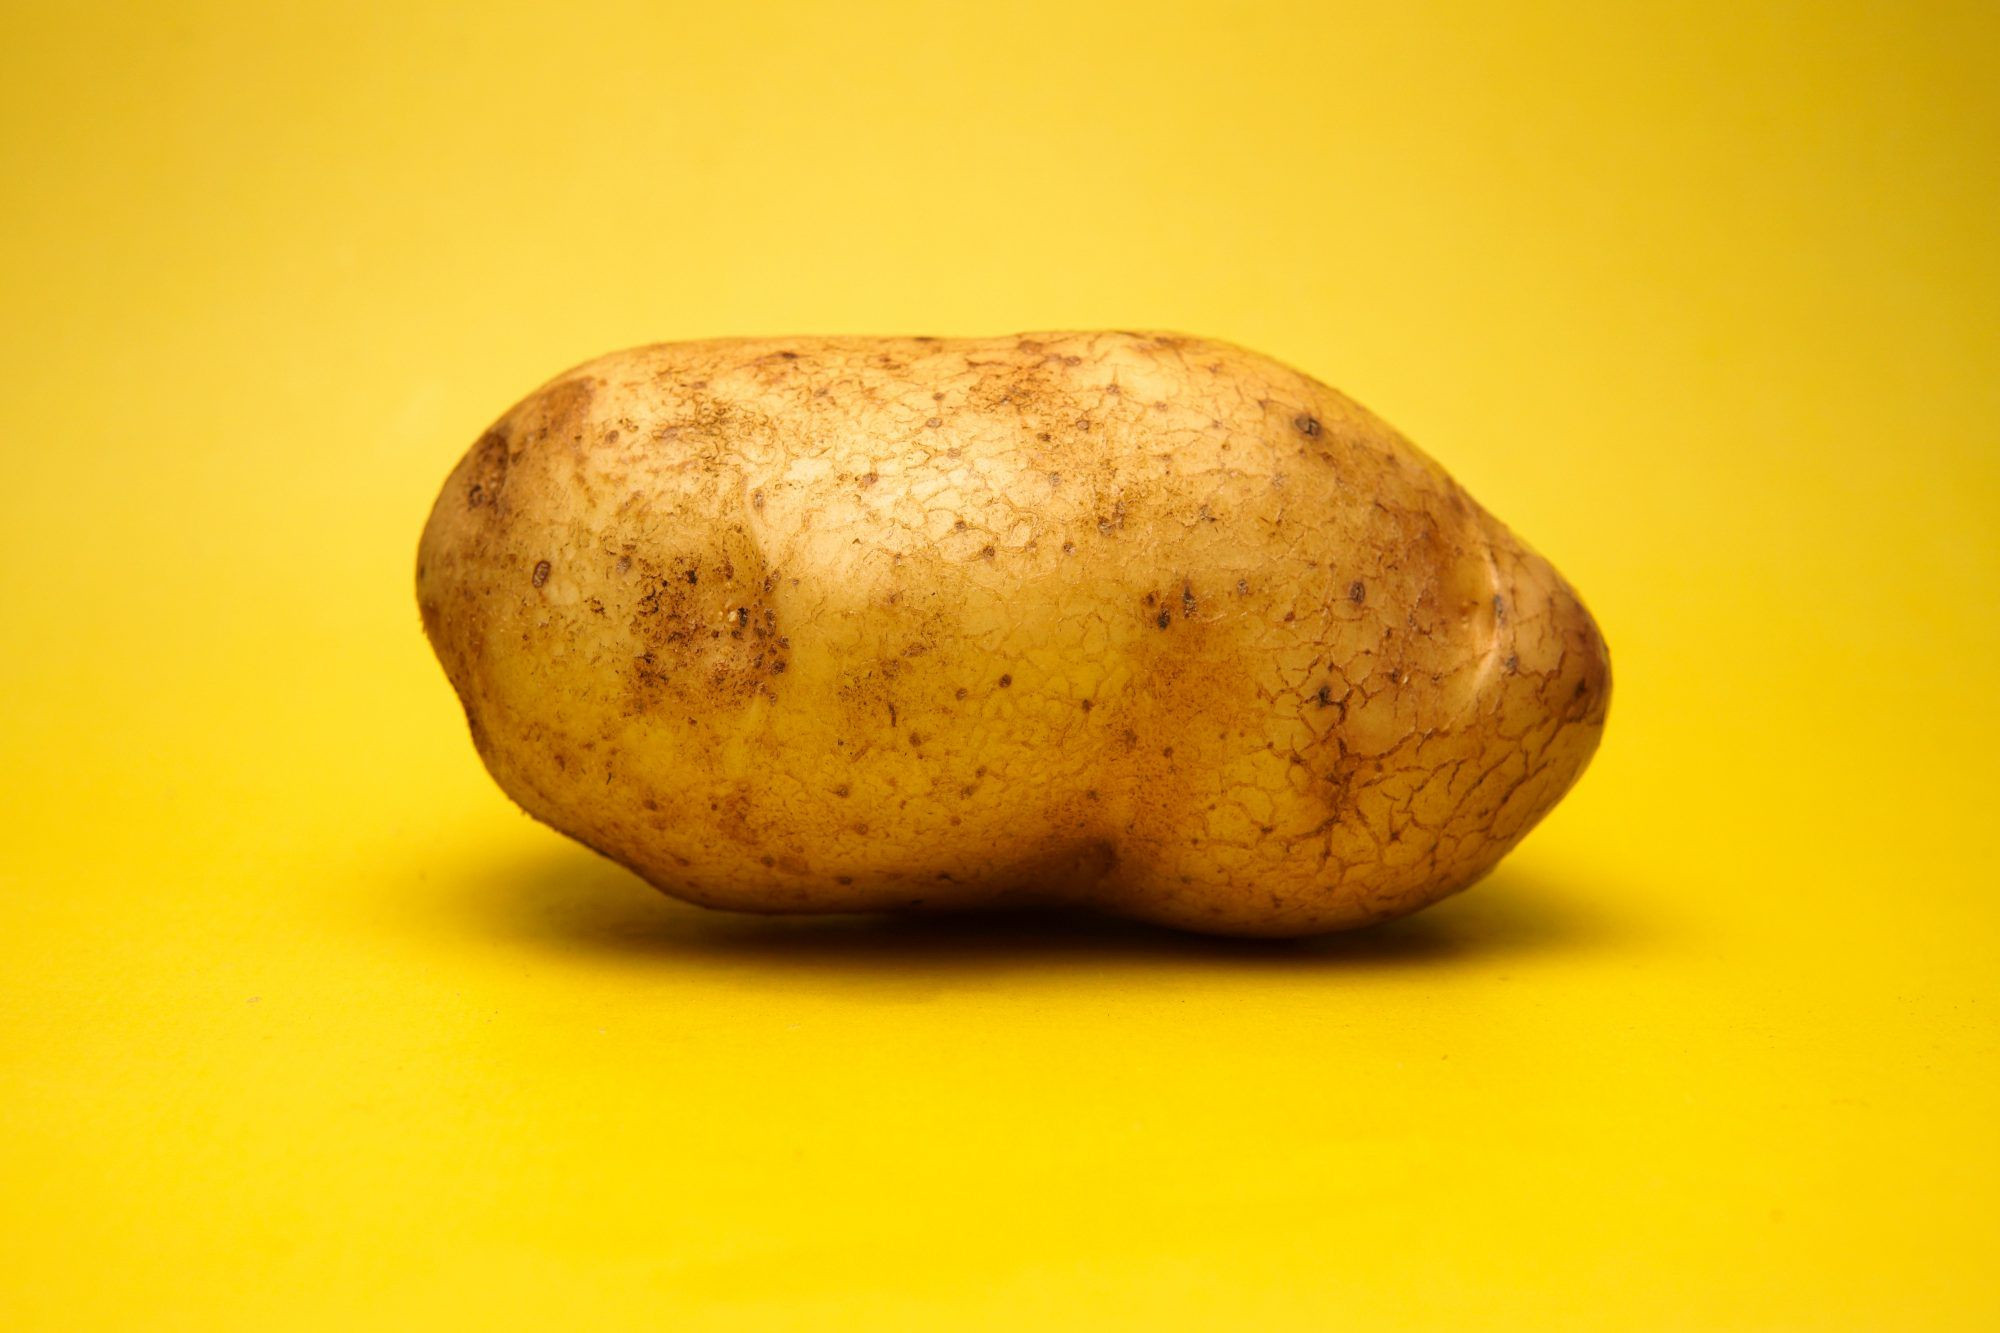potato: (406, 321, 1622, 937)
